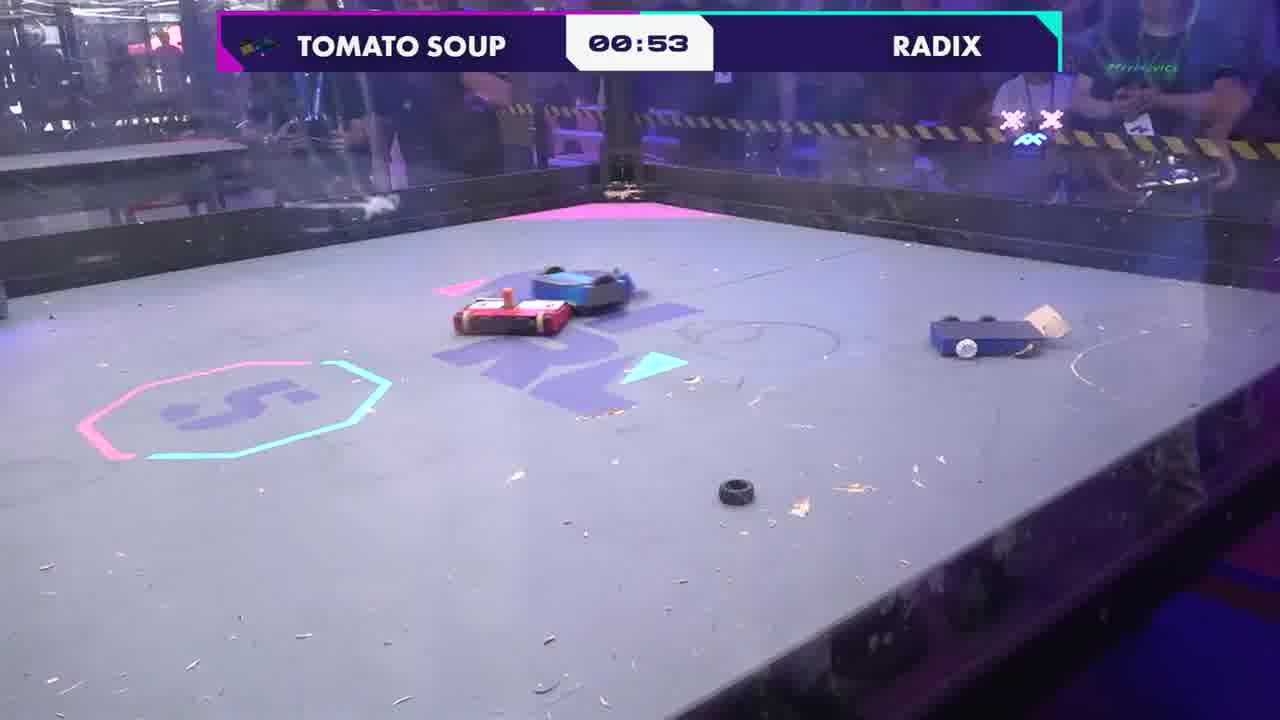combatbot: (927, 303, 1072, 365), (455, 289, 576, 338), (529, 264, 642, 315)
wheel: (719, 478, 755, 504)
